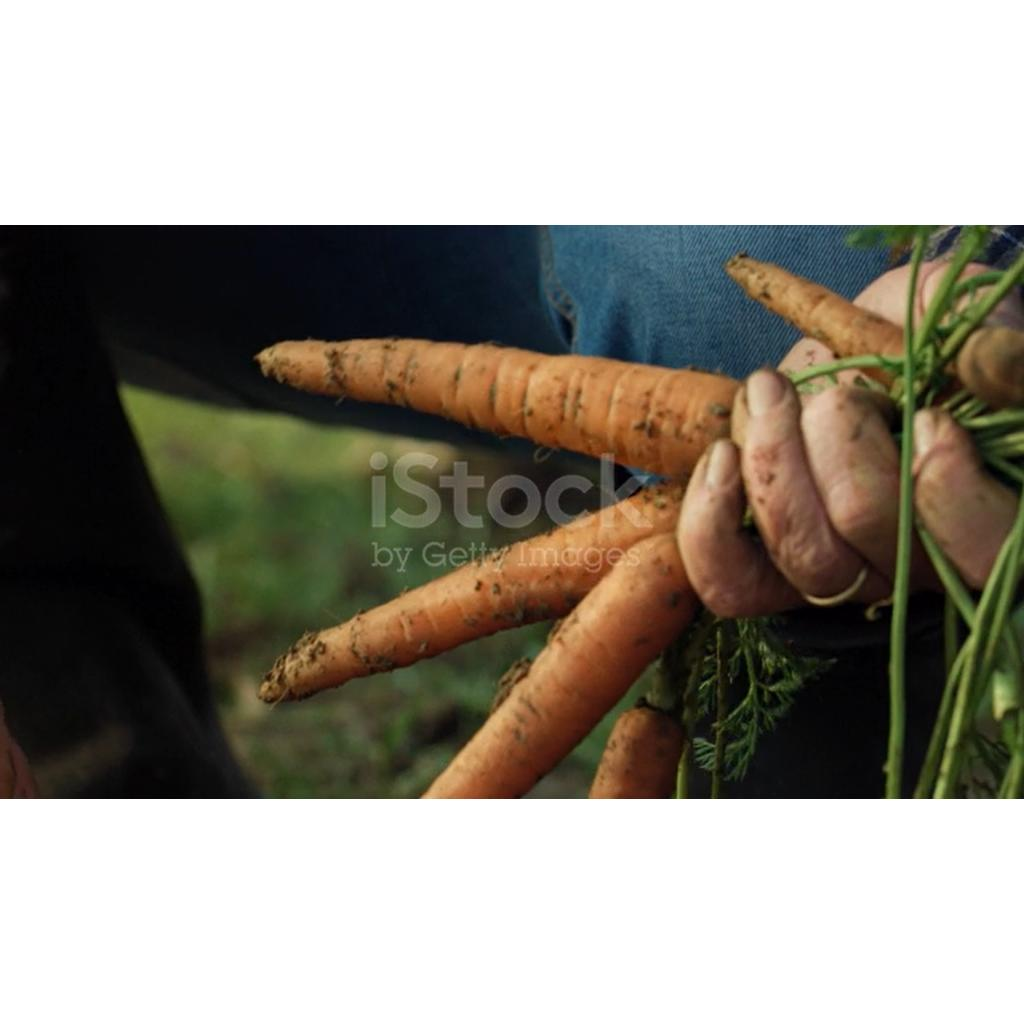carrot: (258, 483, 682, 703), (424, 533, 696, 799), (258, 339, 740, 477), (724, 253, 902, 357), (588, 707, 684, 799)
